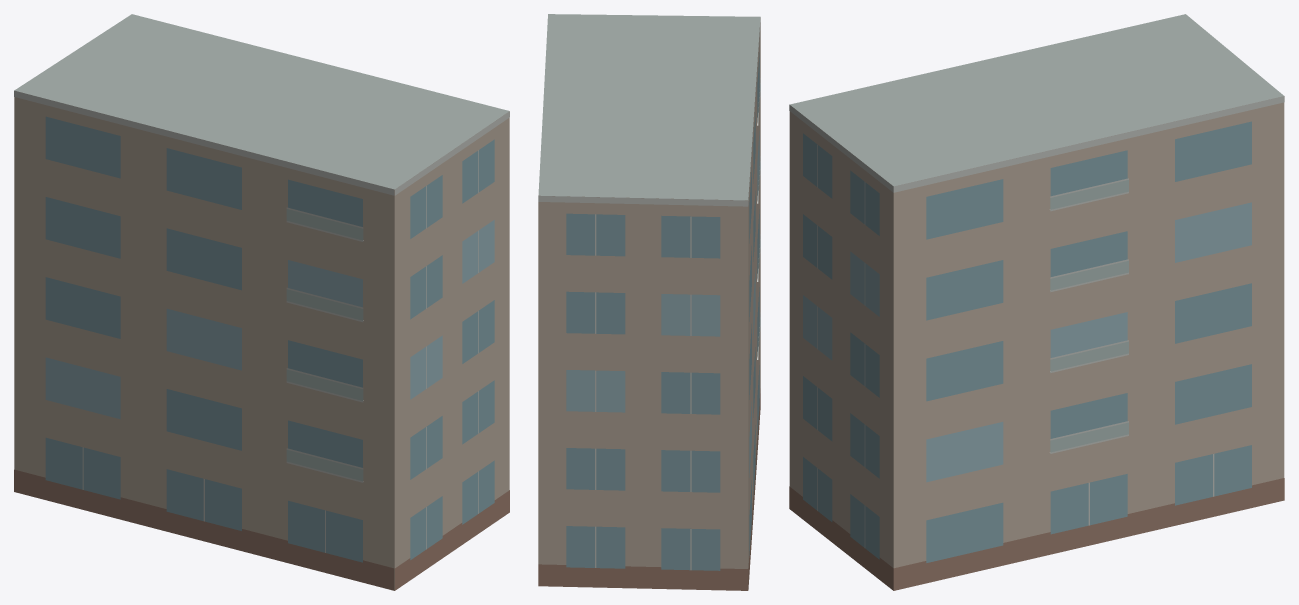
File: survey-upis-32782886.glb
3 renders of one model, left to right at view 1: azimuth 30°, elevation 25°; view 2: azimuth 150°, elevation 25°; view 3: azimuth 270°, elevation 25°, orthographic. The views are drawn at different scales.
Parts seen in each view (by area): view 1: survey-upis-32782886.tmp; view 2: survey-upis-32782886.tmp; view 3: survey-upis-32782886.tmp.
Part boxes in pixels (left/top/right/bottom): survey-upis-32782886.tmp: left=14, top=14, right=509, bottom=590; survey-upis-32782886.tmp: left=538, top=14, right=760, bottom=590; survey-upis-32782886.tmp: left=789, top=14, right=1284, bottom=590.
Bounding box in the file's own units: 14.18 × 15.5 × 17.2.
